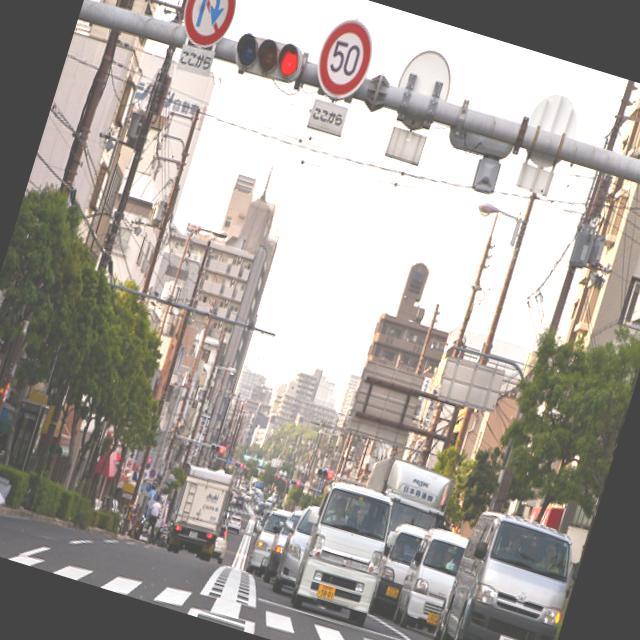Vehicle: (429, 503, 585, 640), (290, 476, 402, 618), (354, 452, 458, 553), (389, 523, 469, 640), (162, 462, 236, 564), (368, 518, 428, 608), (270, 500, 320, 596), (243, 504, 294, 584), (264, 508, 302, 582), (208, 524, 232, 564), (224, 512, 247, 534)
